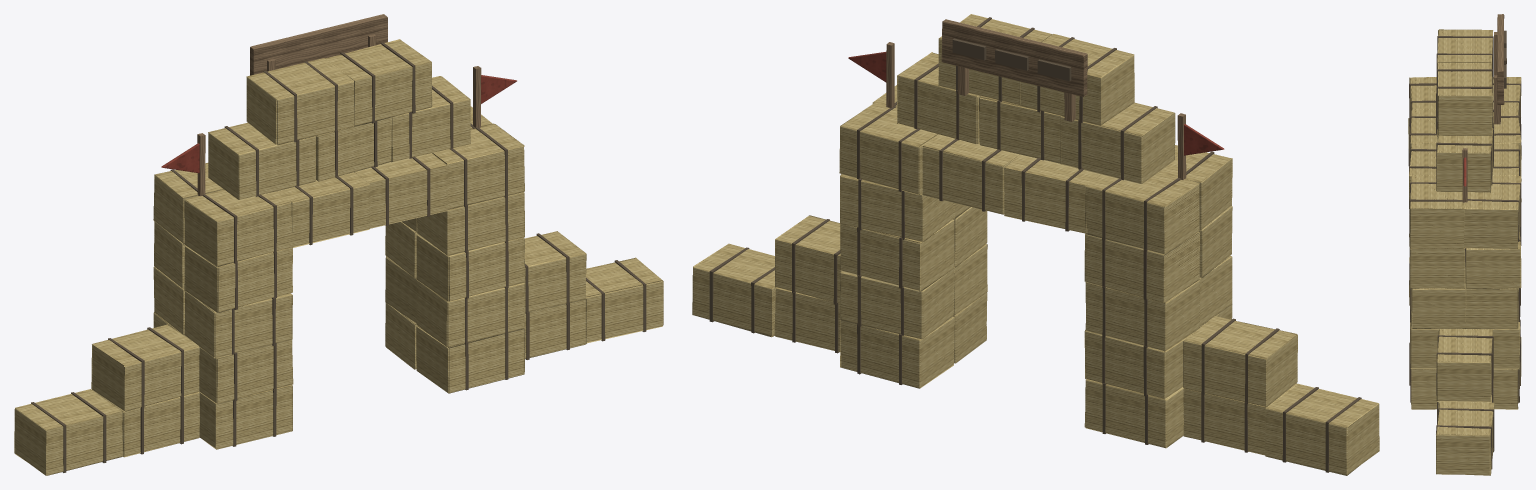
The model's file is straw_labyrinth_gate.glb.
3 views of the same model, side by side, from view 1: azimuth 30°, elevation 25°; view 2: azimuth 150°, elevation 25°; view 3: azimuth 270°, elevation 25° (orthographic). The views are drawn at different scales.
Parts seen in each view (by area): view 1: StrawLabyrinthGate; view 2: StrawLabyrinthGate; view 3: StrawLabyrinthGate.
Part boxes in pixels (x1=…): StrawLabyrinthGate: x1=14, y1=14, x2=663, y2=475; StrawLabyrinthGate: x1=692, y1=14, x2=1379, y2=475; StrawLabyrinthGate: x1=1408, y1=14, x2=1521, y2=475.
Size of the model in its own units: 10.34 by 5.48 by 1.87.
4 materials, 3 textured.
